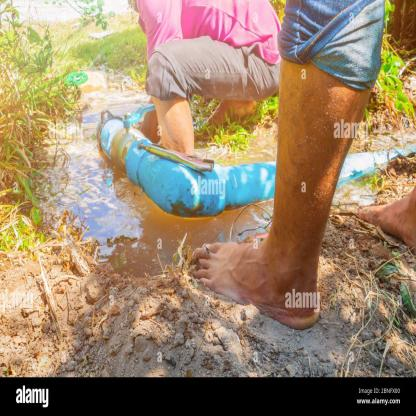PVC: (96, 104, 276, 218), (335, 147, 416, 190)
